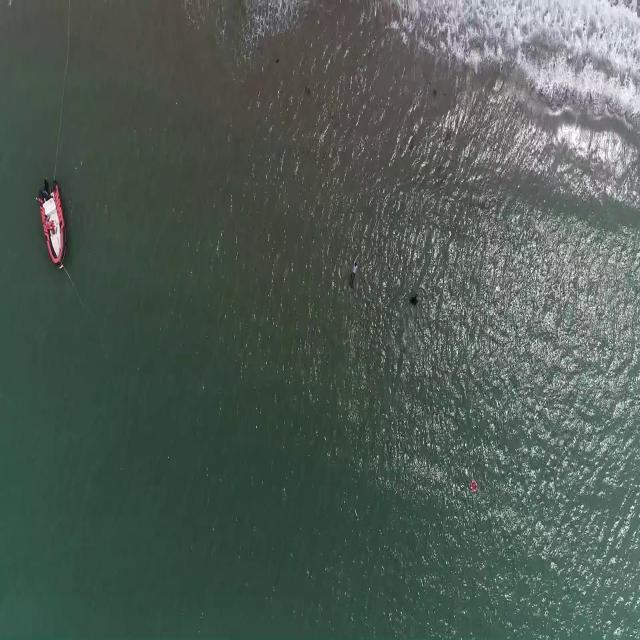boat: (36, 180, 66, 268)
life_buoy: (470, 478, 479, 494)
person: (349, 252, 362, 289), (410, 290, 419, 309)
